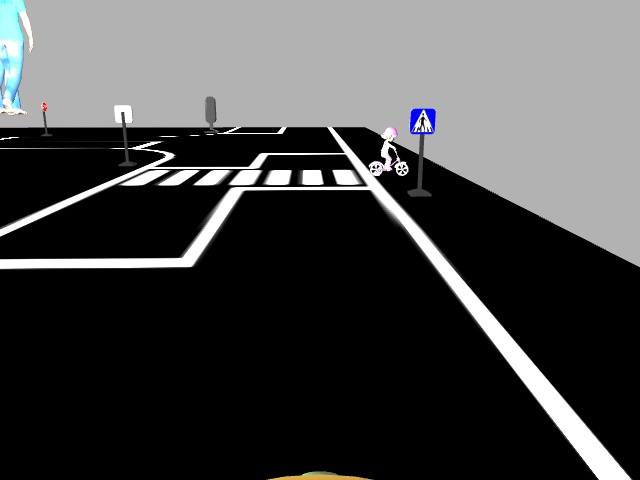Pedestrian: (364, 122, 410, 179)
